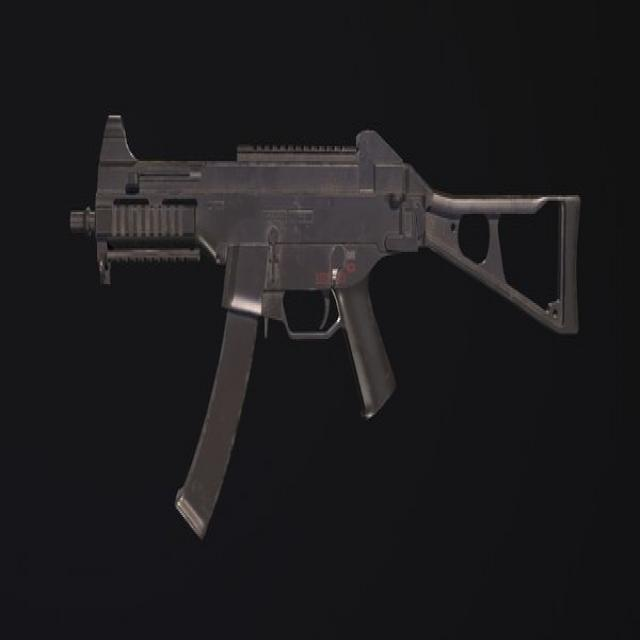smg: (62, 92, 582, 538)
